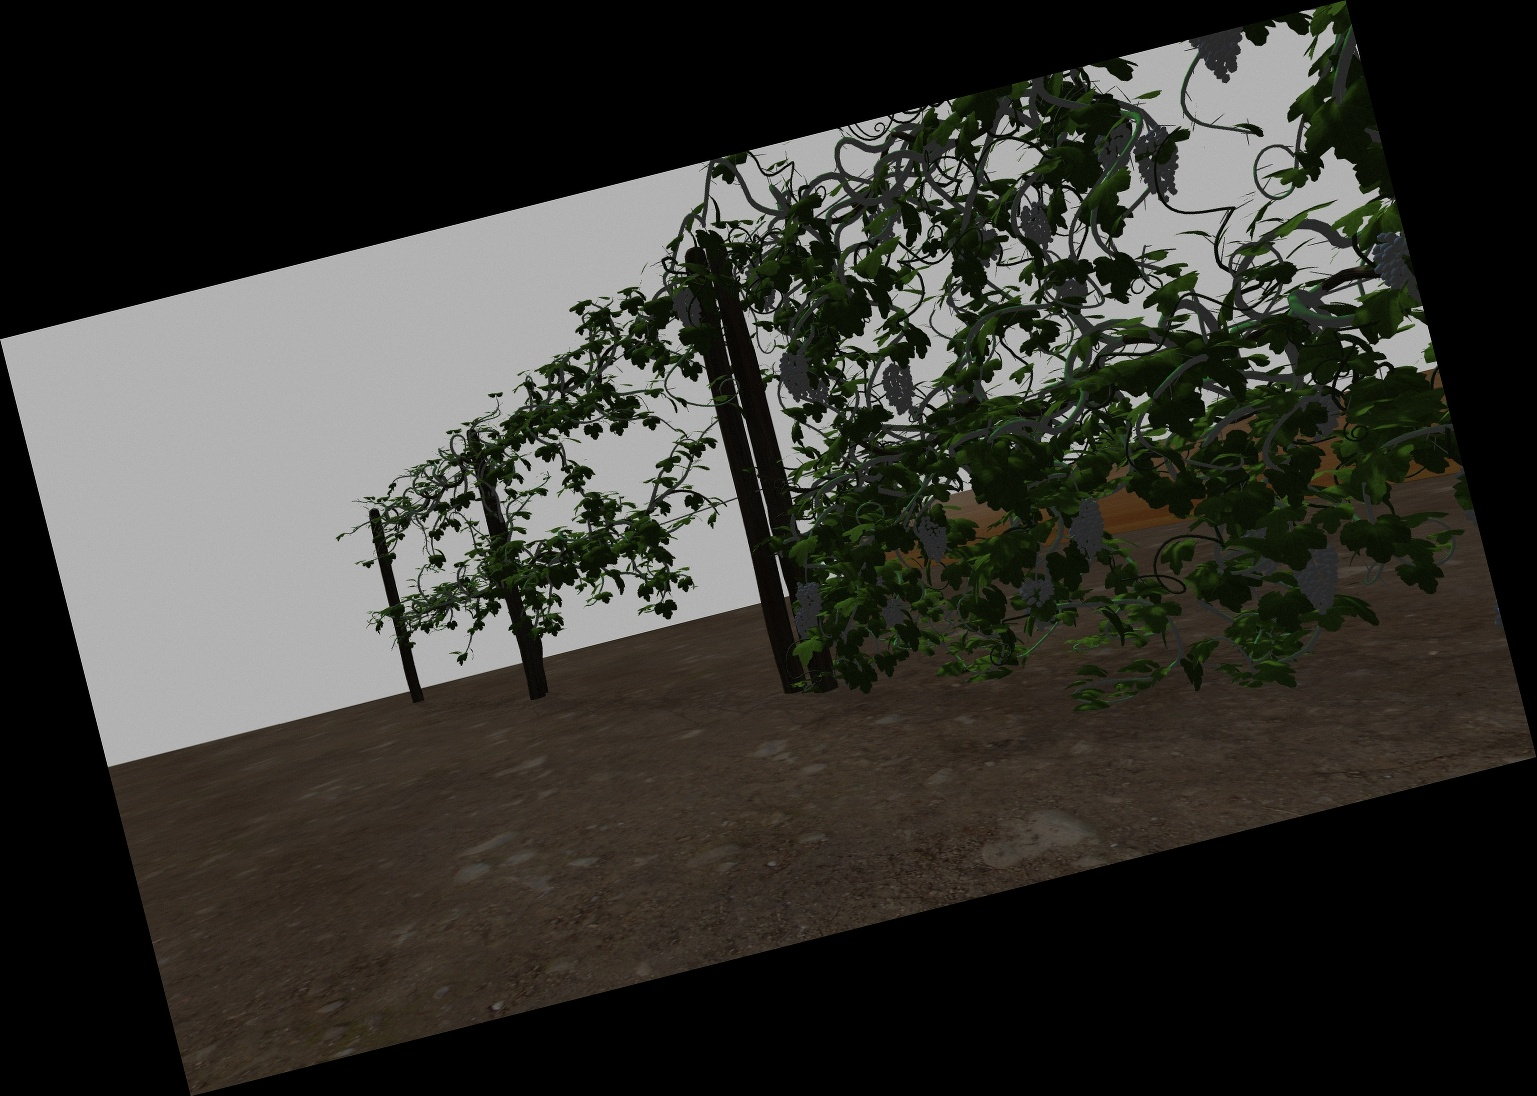grape: (1295, 540, 1343, 614), (1139, 129, 1179, 202), (1069, 498, 1106, 561), (1375, 230, 1408, 301), (1093, 126, 1134, 174), (779, 348, 812, 399), (884, 362, 916, 414), (1021, 202, 1053, 250), (918, 516, 950, 563), (1021, 572, 1056, 608), (672, 289, 701, 329), (796, 579, 823, 618), (876, 595, 911, 624), (795, 608, 818, 639)
